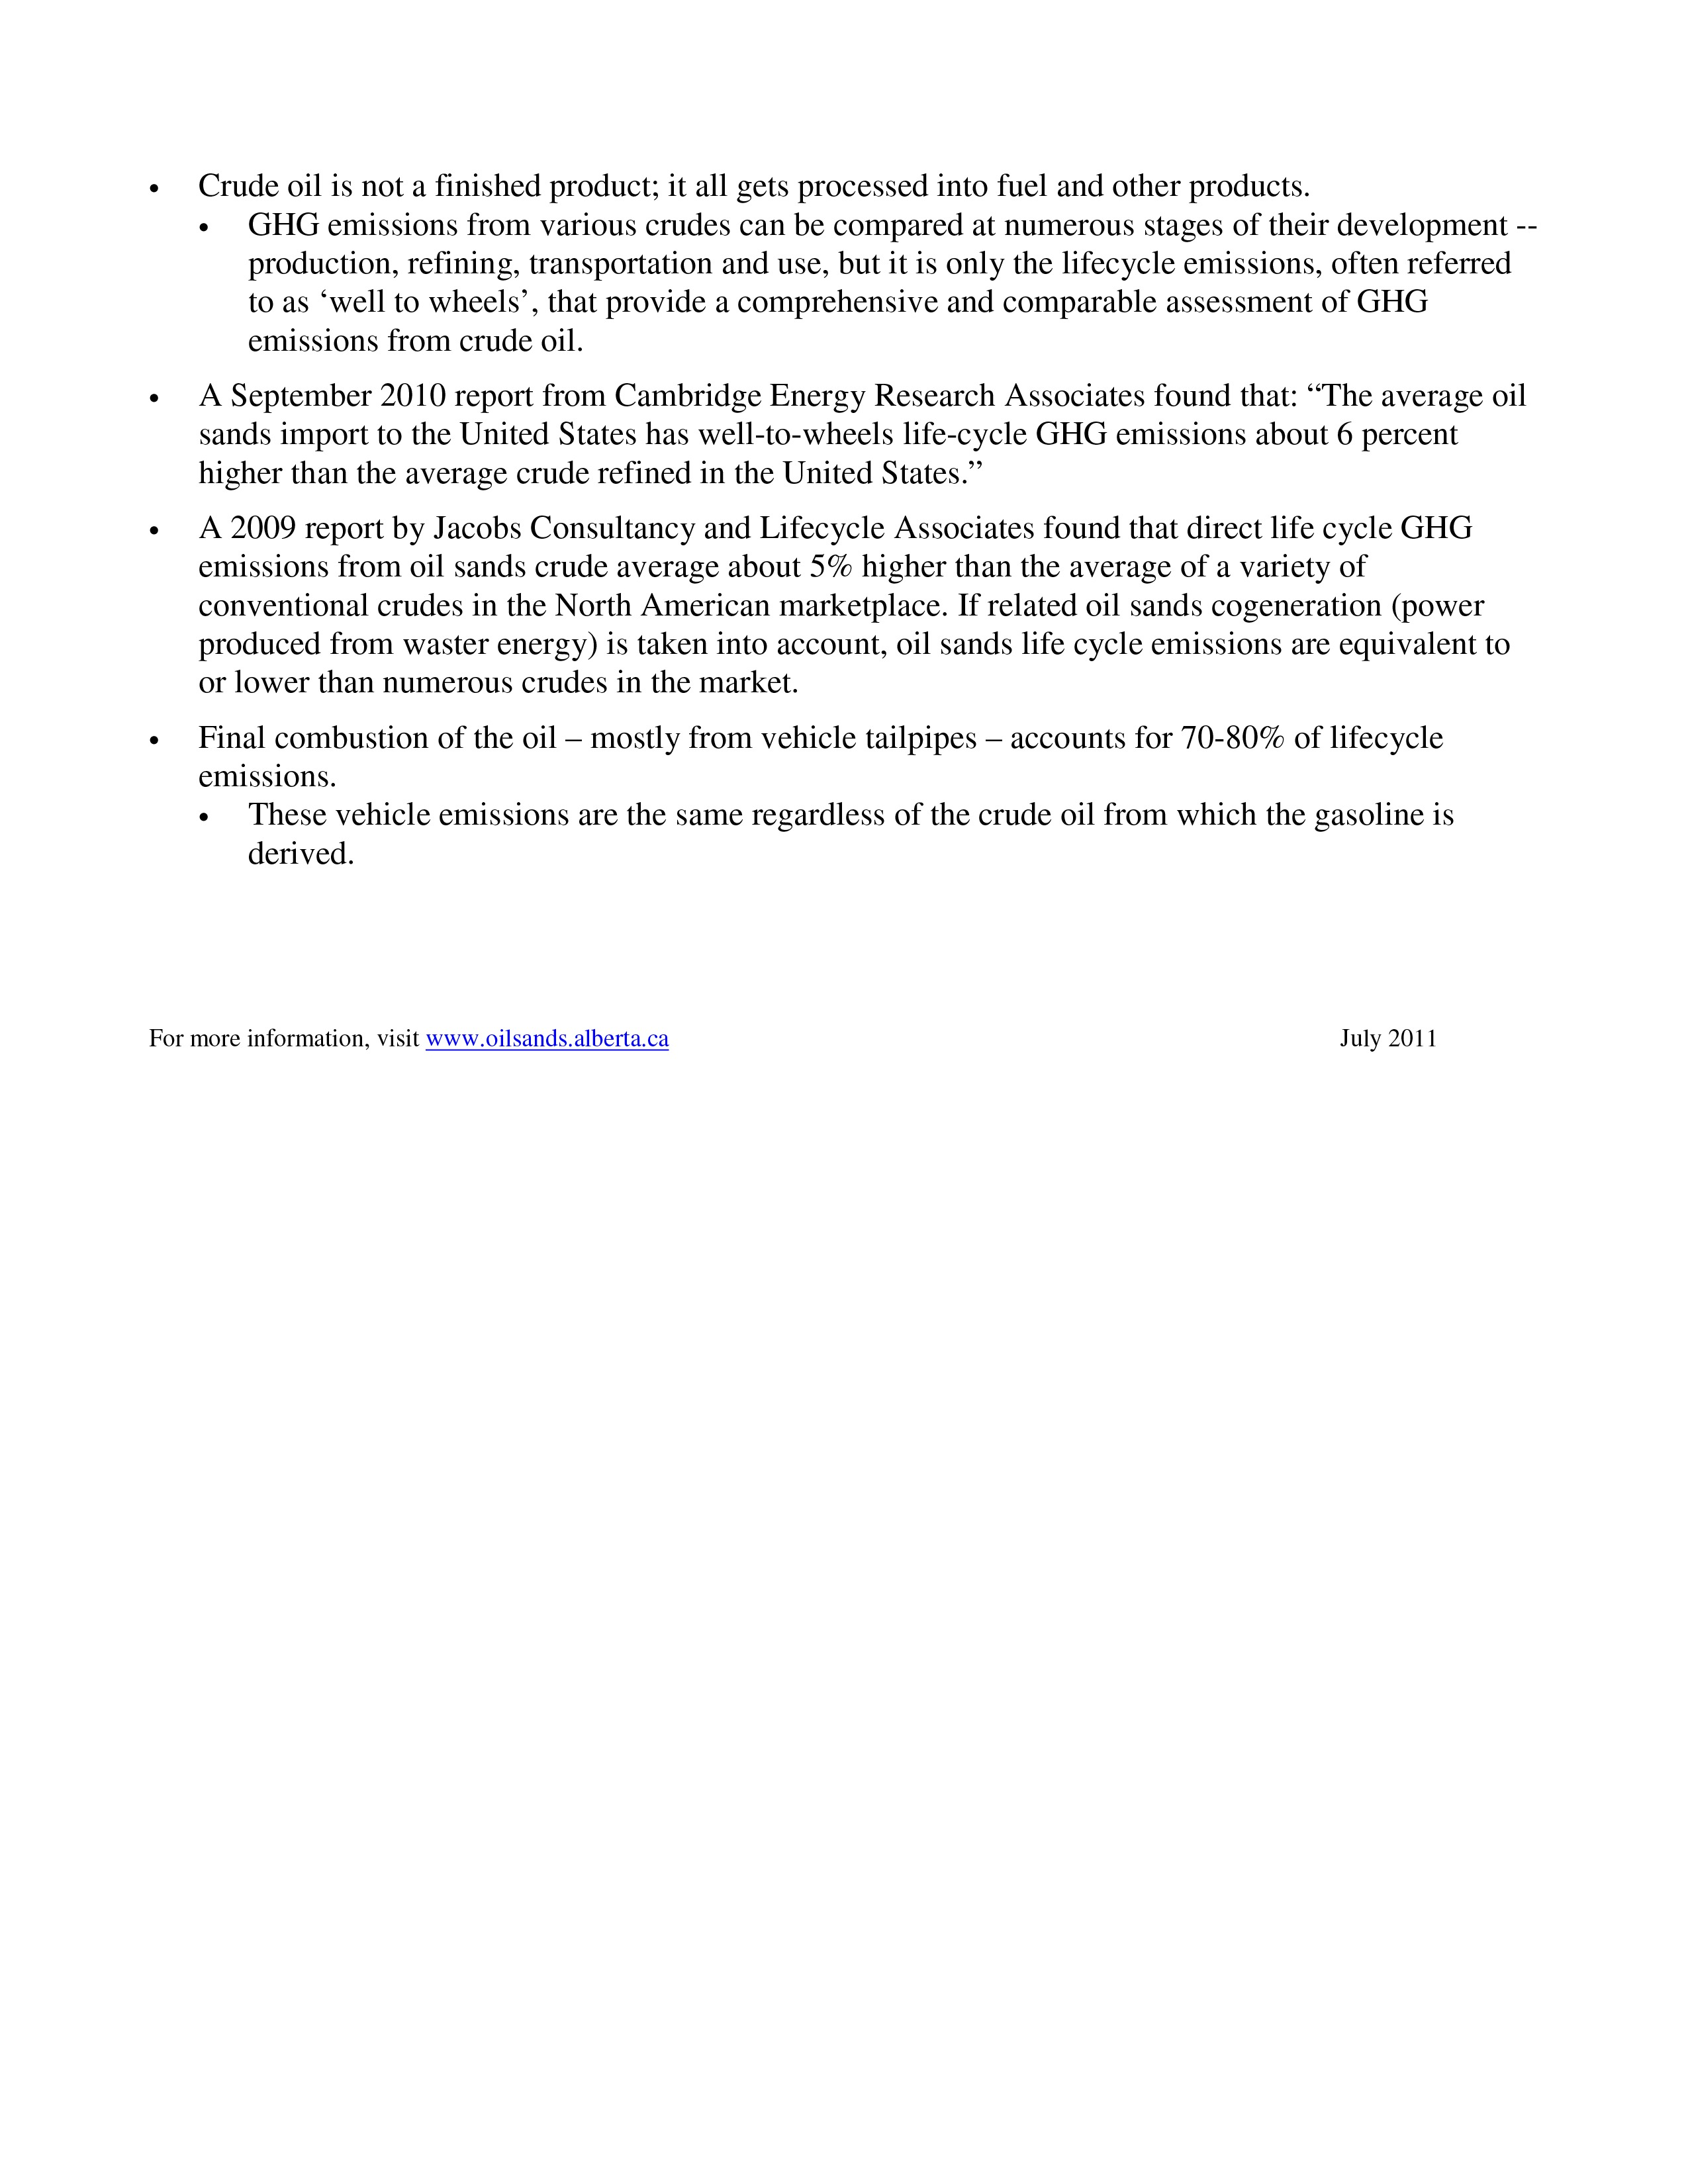list: (112, 138, 1580, 911)
